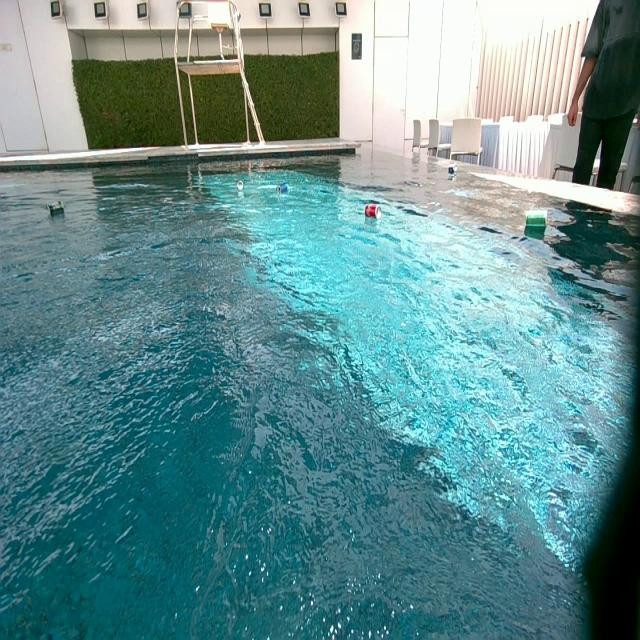Cans: (524, 212, 548, 230), (49, 200, 65, 218), (364, 204, 380, 219), (278, 183, 290, 194), (236, 180, 245, 192), (449, 167, 457, 176)
